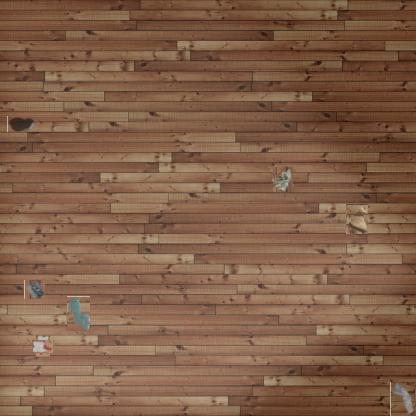dirty: (390, 382, 415, 416), (346, 204, 368, 234), (272, 168, 294, 190), (25, 279, 45, 300), (34, 337, 52, 355)
liquid: (66, 296, 90, 331), (7, 116, 34, 132)
